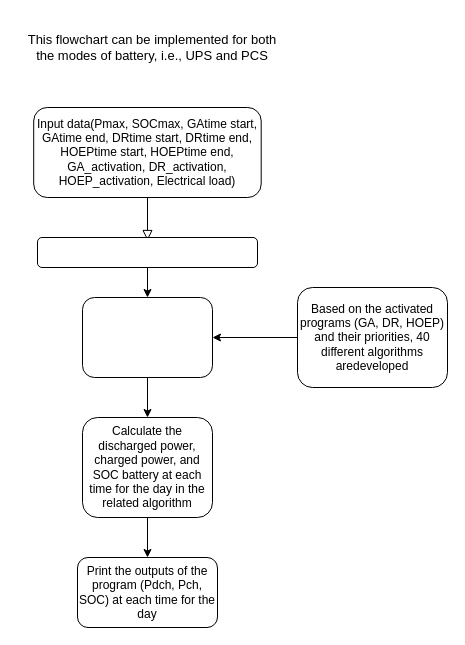
Image size: 465x645. Some labels were removed from this diagram. The shapes that lost their labels are listed below. From the top down, each one's centre as x and y in pixels, then its label:
At (x=147, y=252): "Assign Indicators (from 1 to 40)".
At (x=147, y=337): "Based on the assigned indicator, run the related algorithm".
